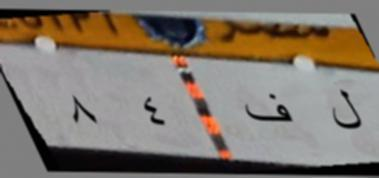4: (140, 94, 168, 132)
8: (66, 92, 97, 131)
faa: (243, 90, 296, 131)
laam: (326, 84, 366, 140)
